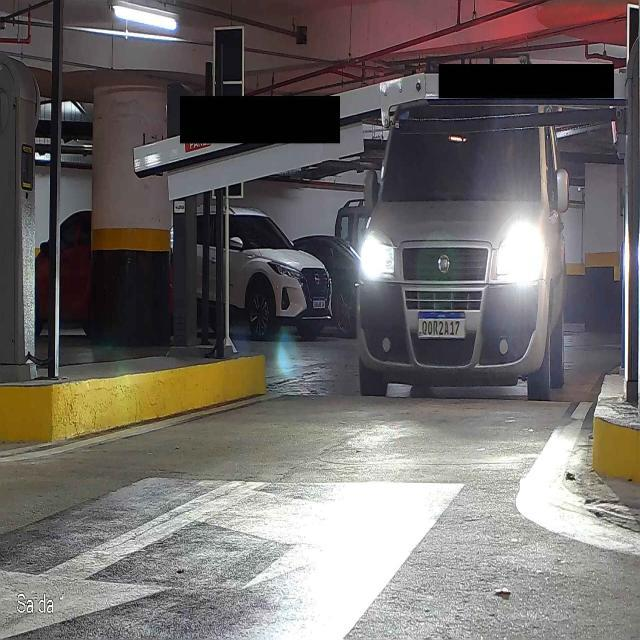mercosul_plate: (416, 310, 468, 340)
